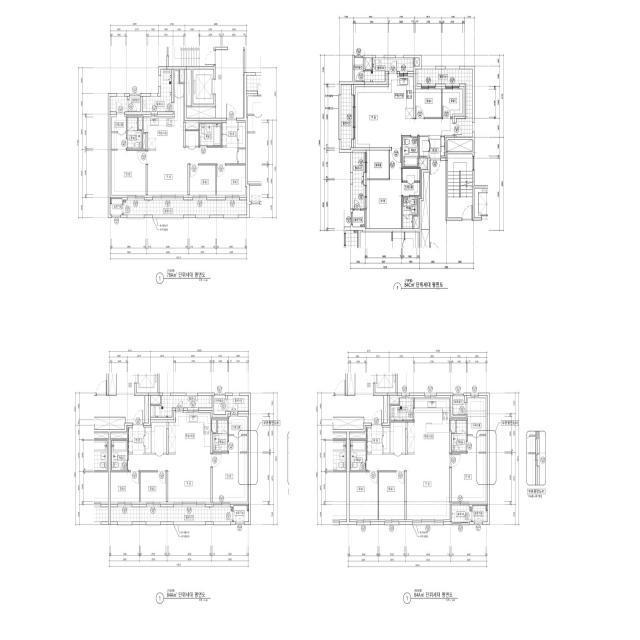space_balconi: (417, 69, 472, 137), (123, 200, 247, 215), (111, 507, 233, 522), (151, 396, 212, 417), (142, 69, 171, 112), (365, 58, 414, 82), (341, 85, 351, 150), (353, 153, 363, 209), (391, 398, 413, 421), (227, 396, 249, 411), (452, 505, 471, 522)
space_bedroom: (367, 150, 401, 229), (213, 453, 247, 502), (452, 453, 486, 502), (112, 150, 146, 195), (349, 472, 378, 520), (379, 472, 405, 520), (217, 165, 245, 195), (111, 472, 139, 502), (140, 472, 166, 502), (190, 165, 216, 195), (415, 89, 441, 117), (442, 89, 462, 117)
space_dressroom: (468, 398, 486, 452), (229, 416, 247, 452), (112, 114, 126, 149), (402, 169, 419, 195)
space_elevator: (193, 70, 214, 104)
space_elevator_hall: (216, 50, 243, 118)
space_front: (128, 425, 144, 454), (367, 425, 383, 453), (222, 119, 238, 147), (429, 135, 445, 156)
space_kitchen: (143, 71, 183, 148), (407, 398, 450, 453), (168, 413, 211, 453), (389, 74, 413, 119)
space_living_room: (355, 87, 453, 147), (367, 453, 450, 520), (148, 147, 238, 195), (128, 454, 211, 502)
space_multipurpose_space: (367, 150, 389, 179)
space_other: (110, 96, 140, 112), (421, 172, 429, 229), (152, 422, 166, 453), (391, 422, 405, 453), (187, 107, 216, 118), (448, 140, 472, 151), (453, 396, 466, 415), (214, 396, 226, 415), (354, 58, 363, 82), (185, 131, 199, 146), (419, 137, 428, 156), (145, 428, 151, 453), (384, 428, 390, 453), (239, 123, 245, 148), (187, 69, 191, 106), (185, 122, 199, 130), (145, 396, 149, 423), (349, 433, 366, 439), (111, 433, 127, 439), (239, 149, 245, 164), (384, 396, 387, 423), (419, 158, 427, 168), (365, 58, 372, 69), (151, 396, 160, 404), (212, 420, 217, 432), (390, 398, 399, 404), (451, 420, 455, 432), (138, 117, 142, 129), (414, 217, 418, 229), (143, 134, 146, 149), (180, 71, 184, 82), (415, 58, 419, 66)
space_outdoor_room: (234, 506, 249, 522), (472, 506, 487, 522), (353, 210, 364, 227)
space_staircase: (448, 154, 472, 218)
space_toilet: (350, 440, 366, 471), (213, 420, 228, 452), (402, 197, 417, 229), (402, 137, 418, 167), (127, 117, 142, 149), (112, 440, 127, 471), (200, 124, 221, 146), (452, 420, 466, 452)
